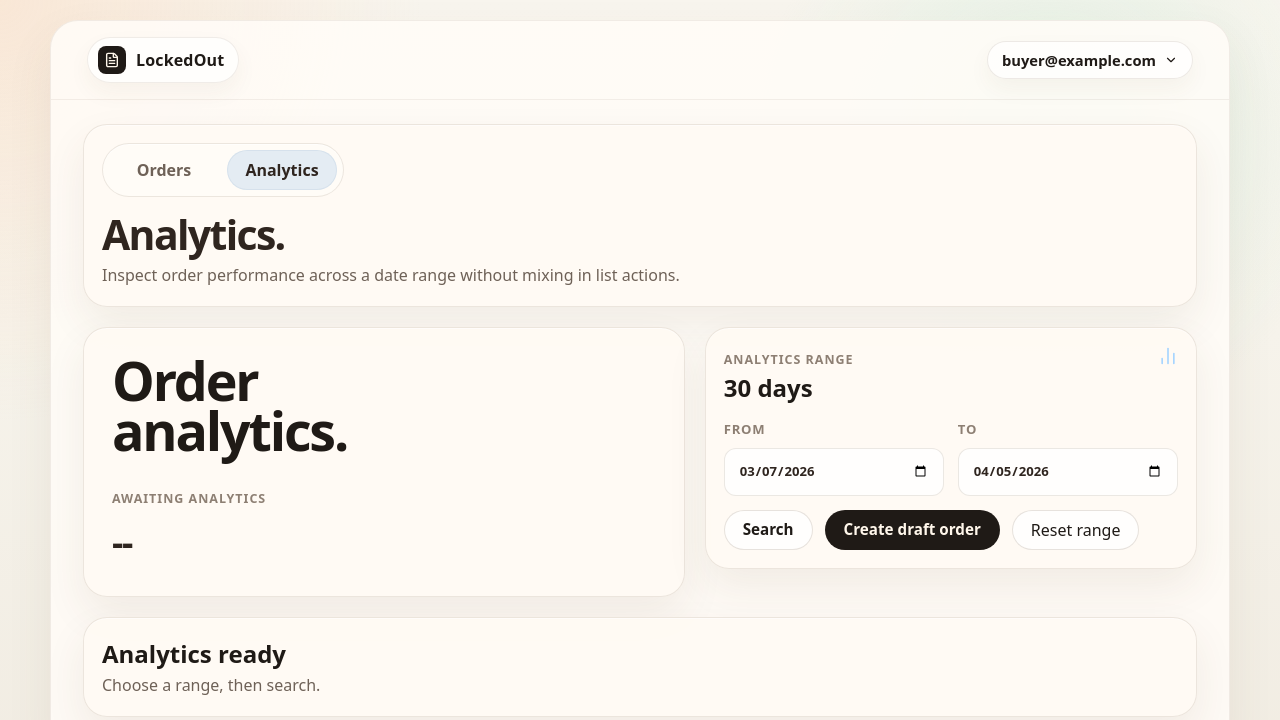
Scenario: Orders analytics page › shows an inline error when analytics cannot be loaded
Click the button "Search" at (768, 530), box [724, 510, 813, 550]
(page scrolled)
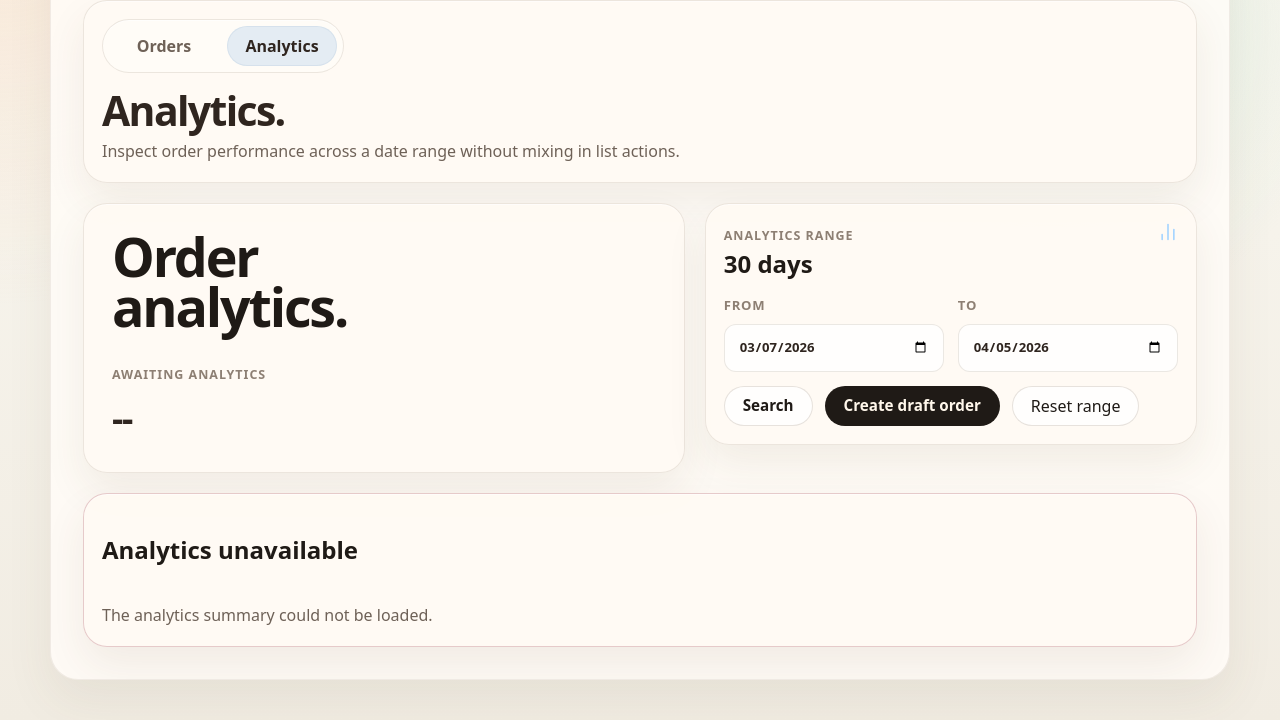
Result: the message shows "Analytics unavailable" at [102, 533, 358, 566]
